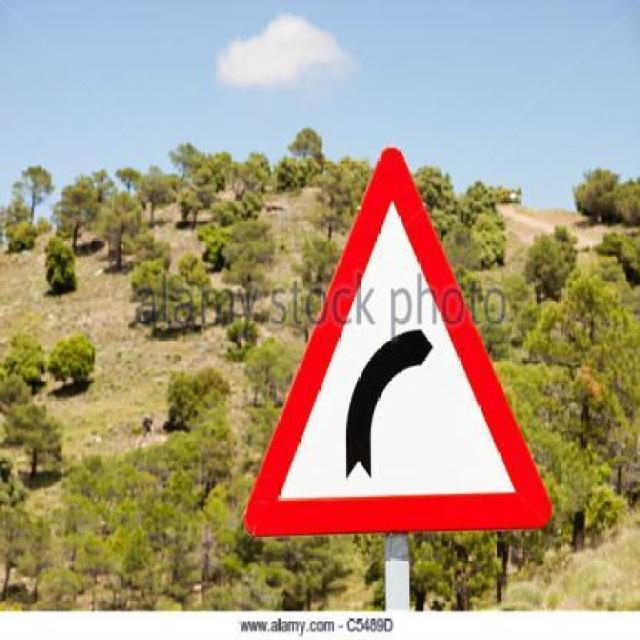warn_right_curve: (233, 144, 561, 538)
